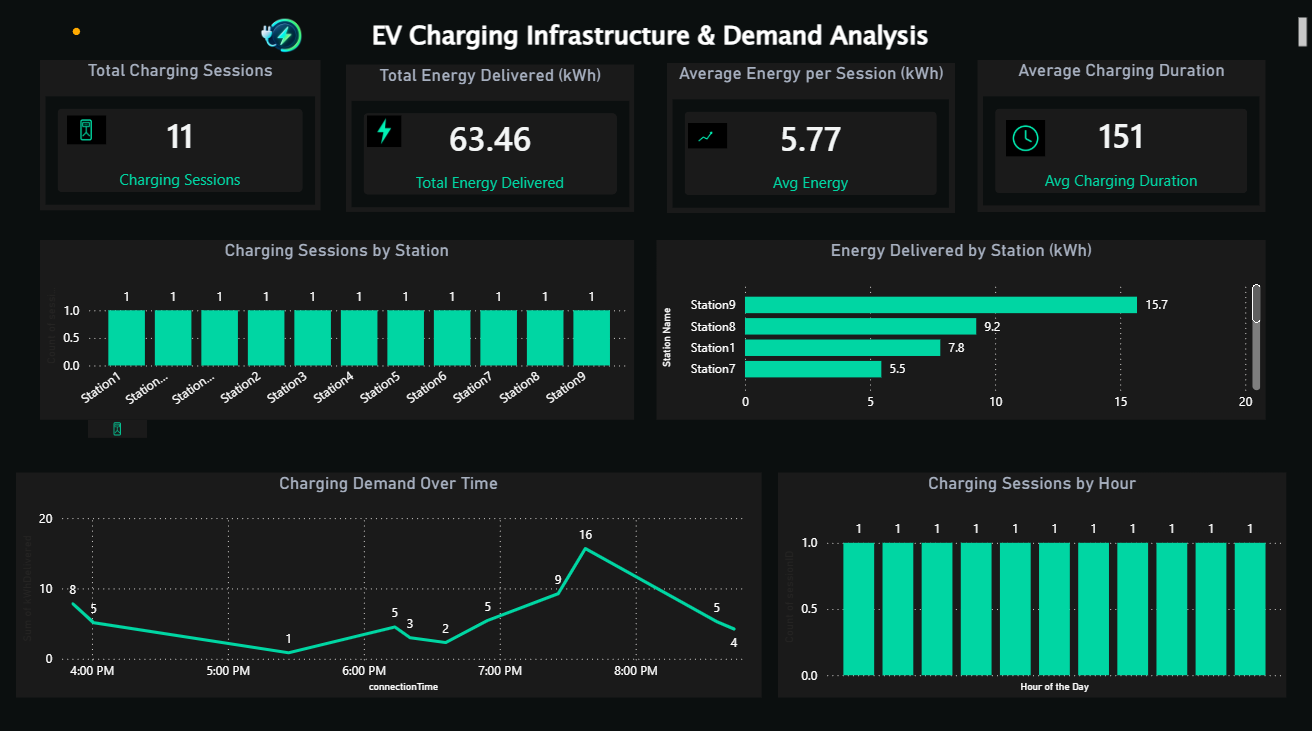

The dashboard page shown, as its layout file describes it:
{"tool":"powerbi","page":{"name":"Page 1","canvas":[1280,720],"ordinal":0},"visuals":[{"type":"clusteredColumnChart","title":"Charging Sessions by Station","fields":{"Category":["public charging_sessions.Station Name"],"Y":["CountNonNull(public charging_sessions.sessionID)"]},"box":[43.7,242,577.3,174.9],"z":0},{"type":"cardVisual","title":"Total Charging Sessions","fields":{"Data":["Count(public charging_sessions.sessionID)"]},"box":[43.7,67.1,272.6,145.8],"z":1000,"group":"g9"},{"type":"cardVisual","title":"Total Energy Delivered (kWh)","fields":{"Data":["Sum(public charging_sessions.kWhDelivered)"]},"box":[341.1,71.4,280,143.4],"z":1000,"group":"g7"},{"type":"image","box":[70.3,120.4,37.9,27.7],"z":1000,"group":"g9"},{"type":"clusteredBarChart","title":"Energy Delivered by Station (kWh)","fields":{"Category":["public charging_sessions.Station Name"],"Y":["Sum(public charging_sessions.kWhDelivered)"]},"box":[642.9,242,591.9,174.9],"z":1000},{"type":"cardVisual","title":"Average Energy per Session (kWh)","fields":{"Data":["Avg(public charging_sessions.kWhDelivered)"]},"box":[653.1,70,279.9,145.8],"z":2000,"group":"g3"},{"type":"lineChart","title":"Charging Demand Over Time","fields":{"Y":["Sum(public charging_sessions.kWhDelivered)"],"Category":["public charging_sessions.connectionTime"]},"box":[20.4,468,724.6,218.7],"z":2000},{"type":"cardVisual","title":"Average Charging Duration","fields":{"Data":["Avg(public charging_sessions.charging_duration_minutes)"]},"box":[954.9,67.1,279.9,147.2],"z":3000,"group":"g6"},{"type":"clusteredColumnChart","title":"Charging Sessions by Hour","fields":{"Category":["public charging_sessions._id"],"Y":["CountNonNull(public charging_sessions.sessionID)"]},"box":[761,468,494.2,218.7],"z":3000},{"type":"group","id":"g1","title":"Group 1","box":[90.9,417.5,57.5,17.4],"z":4000},{"type":"group","id":"g2","title":"Group 2","box":[341.1,71.4,279.9,142.9],"z":5000},{"type":"group","id":"g3","title":"Group 3","box":[653.1,70,279.9,145.8],"z":6000},{"type":"group","id":"g4","title":"Group 4","box":[954.9,67.1,279.9,147.2],"z":7000},{"type":"group","id":"g5","title":"Group 6","box":[3.1,18.2,1277.1,54.5],"z":8000},{"type":"textbox","box":[3.1,20.9,1277.1,42.3],"z":8000,"group":"g5"},{"type":"group","id":"g6","title":"Group 5","box":[954.9,67.1,279.9,147.2],"z":8001,"group":"g4"},{"type":"group","id":"g7","title":"Group 7","box":[341.1,71.4,280,143.4],"z":8001,"group":"g2"},{"type":"group","id":"g8","title":"Group 8","box":[90.9,417.5,57.5,17.4],"z":8001,"group":"g1"},{"type":"image","box":[90.9,417.5,57.5,17.4],"z":8001,"group":"g8"},{"type":"image","box":[360.9,120.5,33.5,30.6],"z":8002,"group":"g7"},{"type":"image","box":[673.3,128.3,37.9,24.8],"z":8003,"group":"g3"},{"type":"image","box":[982.7,126.1,37.9,35.3],"z":8004,"group":"g6"},{"type":"image","box":[213.5,18.2,128.7,54.5],"z":8009,"group":"g5"},{"type":"group","id":"g9","title":"Group 2","box":[43.7,67.1,272.6,145.8],"z":9000}]}

Visuals, with their boxes in screenshot pixels (x1, y1, x2, y2), scaled from the page's 1280x720 canvas onto the 1312x731 screenshot:
"Charging Sessions by Station" clusteredColumnChart: (45,246,637,423)
"Total Charging Sessions" cardVisual: (45,68,324,216)
"Total Energy Delivered (kWh)" cardVisual: (350,72,637,218)
image: (72,122,111,150)
"Energy Delivered by Station (kWh)" clusteredBarChart: (659,246,1266,423)
"Average Energy per Session (kWh)" cardVisual: (669,71,956,219)
"Charging Demand Over Time" lineChart: (21,475,764,697)
"Average Charging Duration" cardVisual: (979,68,1266,218)
"Charging Sessions by Hour" clusteredColumnChart: (780,475,1287,697)
"Group 1" group: (93,424,152,442)
"Group 2" group: (350,72,637,218)
"Group 3" group: (669,71,956,219)
"Group 4" group: (979,68,1266,218)
"Group 6" group: (3,18,1311,74)
textbox: (3,21,1311,64)
"Group 5" group: (979,68,1266,218)
"Group 7" group: (350,72,637,218)
"Group 8" group: (93,424,152,442)
image: (93,424,152,442)
image: (370,122,404,153)
image: (690,130,729,155)
image: (1007,128,1046,164)
image: (219,18,351,74)
"Group 2" group: (45,68,324,216)
